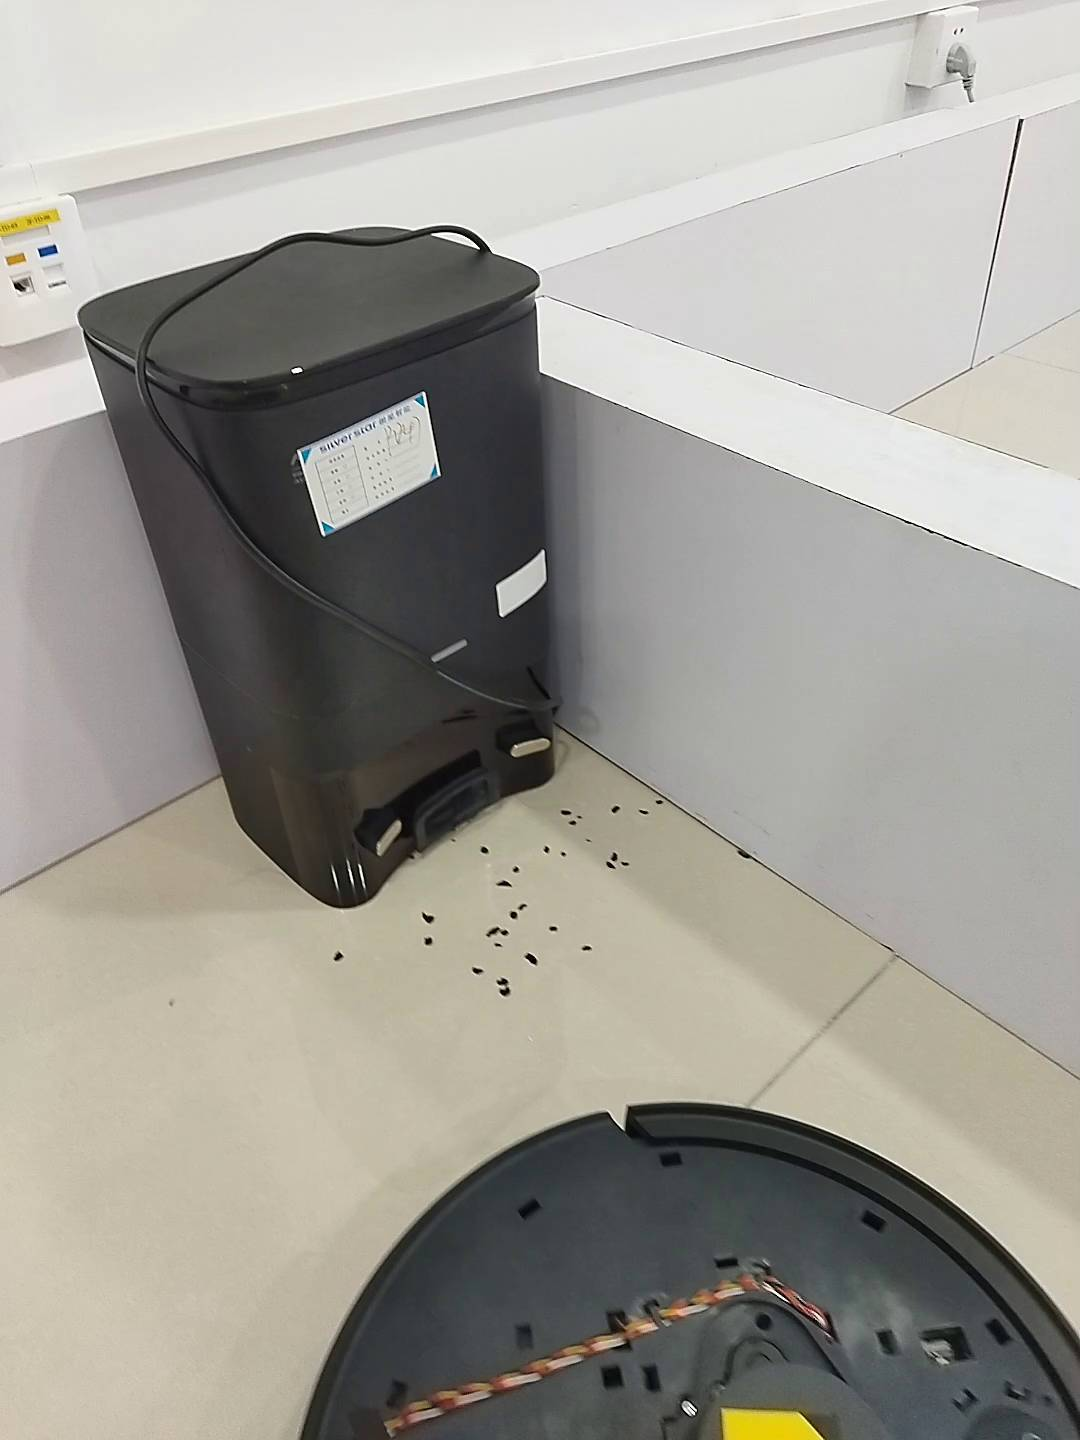dust collecting barrel: (77, 227, 564, 907)
